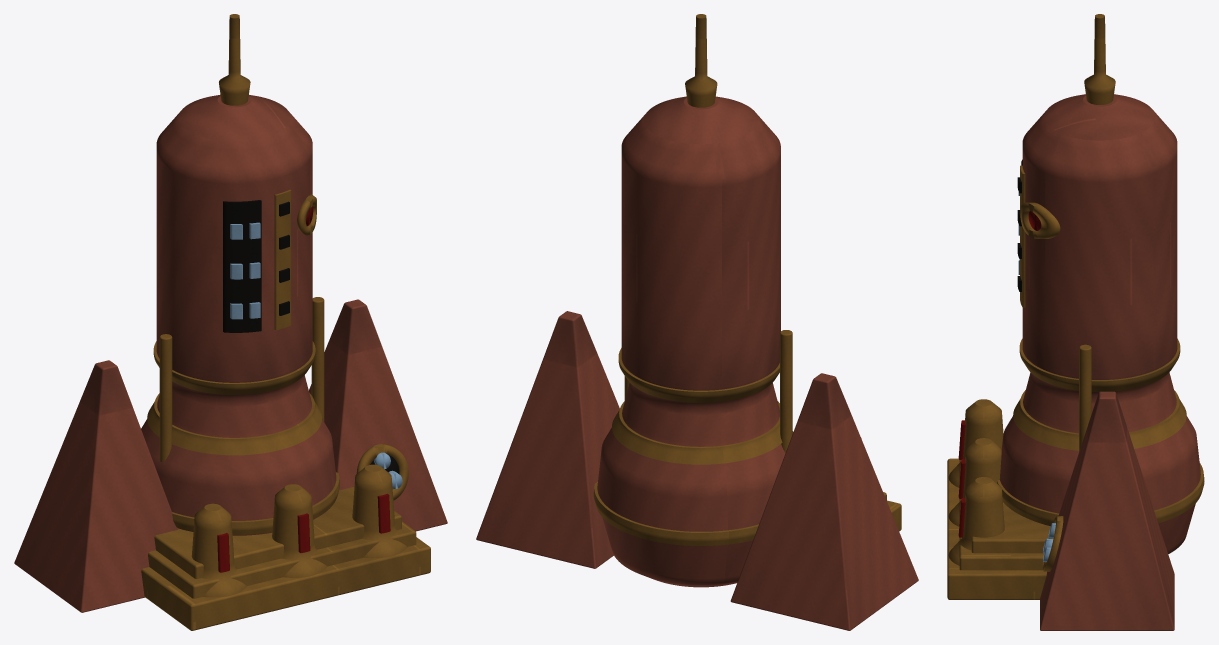
3 renders of one model, left to right at view 1: azimuth 30°, elevation 25°; view 2: azimuth 150°, elevation 25°; view 3: azimuth 270°, elevation 25°, orthographic. The views are drawn at different scales.
Visible parts, largest first — view 1: BR10 layered central body, BR10 side pyramidal module 0, BR10 side pyramidal module 1, BR10 access step 0, BR10 access step 2, BR10 upper dark service field, BR10 access step 1, BR10 gold shoulder band 1, BR10 front gold fitting 0, BR10 front gold fitting 1, BR10 front gold fitting 2, BR10 upper gold louver backing (+6 smaller); view 2: BR10 layered central body, BR10 side pyramidal module 0, BR10 side pyramidal module 1, BR10 gold shoulder band 1, BR10 gold shoulder band 0, BR10 gold shoulder band 2, BR10 single gold terminal, BR10 waist gold upright 0; view 3: BR10 layered central body, BR10 side pyramidal module 1, BR10 access step 0, BR10 gold shoulder band 1, BR10 front gold fitting 2, BR10 access step 2, BR10 gold shoulder band 2, BR10 front gold fitting 0, BR10 access step 1, BR10 front gold fitting 1, BR10 gold shoulder band 0, BR10 single gold terminal (+4 smaller).
Boxes of the visible parts, x1,y1,x2,y2 form: BR10 layered central body: (141,94,336,535); BR10 side pyramidal module 0: (14,360,178,612); BR10 side pyramidal module 1: (309,299,447,531); BR10 access step 0: (141,537,430,630); BR10 access step 2: (154,487,401,578); BR10 upper dark service field: (223,200,261,332); BR10 access step 1: (148,521,416,598); BR10 gold shoulder band 1: (147,393,321,455); BR10 front gold fitting 0: (191,503,246,597); BR10 front gold fitting 1: (272,484,327,577); BR10 front gold fitting 2: (352,464,407,558); BR10 upper gold louver backing: (274,189,291,330); BR10 layered central body: (597,96,793,587); BR10 side pyramidal module 0: (730,373,918,630); BR10 side pyramidal module 1: (476,311,619,568); BR10 gold shoulder band 1: (612,401,782,464); BR10 gold shoulder band 0: (593,481,758,545); BR10 gold shoulder band 2: (618,348,779,402); BR10 single gold terminal: (685,14,717,107); BR10 waist gold upright 0: (780,330,792,453); BR10 layered central body: (999,94,1200,553); BR10 side pyramidal module 1: (1040,391,1174,630); BR10 access step 0: (947,458,1046,599); BR10 gold shoulder band 1: (1013,390,1186,450); BR10 front gold fitting 2: (948,477,1004,565); BR10 access step 2: (971,502,1050,553); BR10 gold shoulder band 2: (1019,338,1180,391); BR10 front gold fitting 0: (948,399,1003,487); BR10 access step 1: (959,460,1043,570); BR10 front gold fitting 1: (948,438,1001,526); BR10 gold shoulder band 0: (997,463,1204,525); BR10 single gold terminal: (1084,14,1115,104).
Bounding box in the file's own units: 1.74 × 2.4 × 1.06.
Materials: 5 (5 with a texture image).
